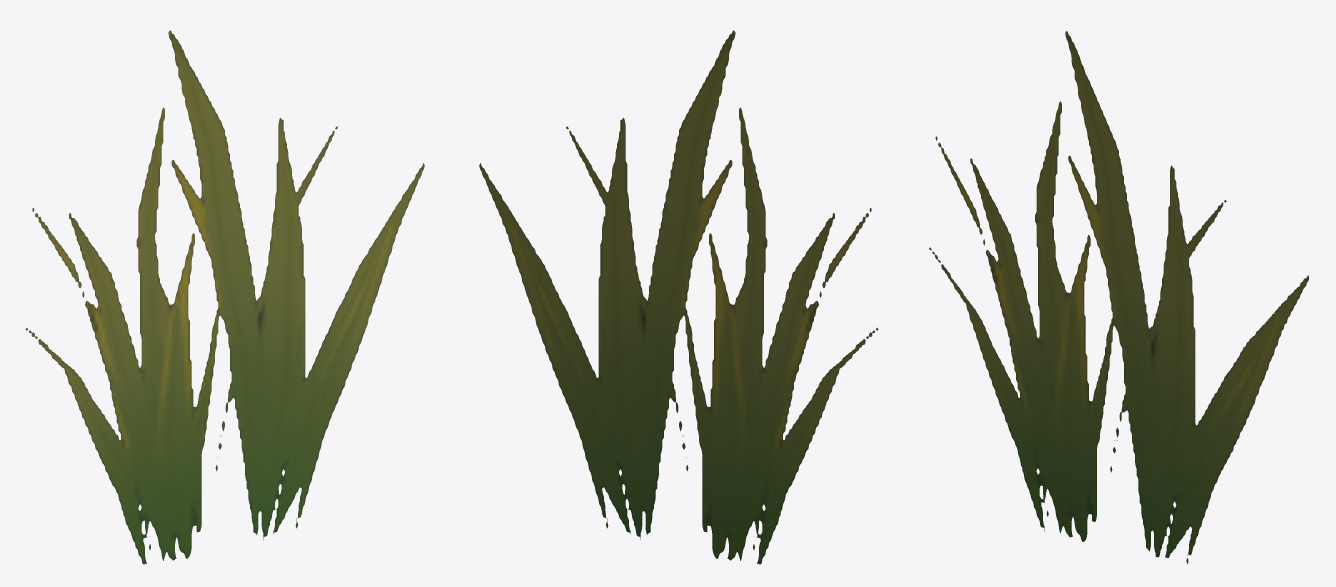
Rendered from Jungle_grass_03.fbx.
The picture shows the model from 3 angles, left to right: view 1: azimuth 30°, elevation 25°; view 2: azimuth 150°, elevation 25°; view 3: azimuth 330°, elevation 25°; orthographic projection. The views are drawn at different scales.
Parts seen in each view (by area): view 1: Jungle_grass_03; view 2: Jungle_grass_03; view 3: Jungle_grass_03.
Boxes of the visible parts, x1,y1,x2,y2 form: Jungle_grass_03: (25, 30, 424, 564); Jungle_grass_03: (479, 30, 878, 564); Jungle_grass_03: (929, 31, 1308, 563).
Size of the model in its own units: 129 by 161 by 2.61e-05.
